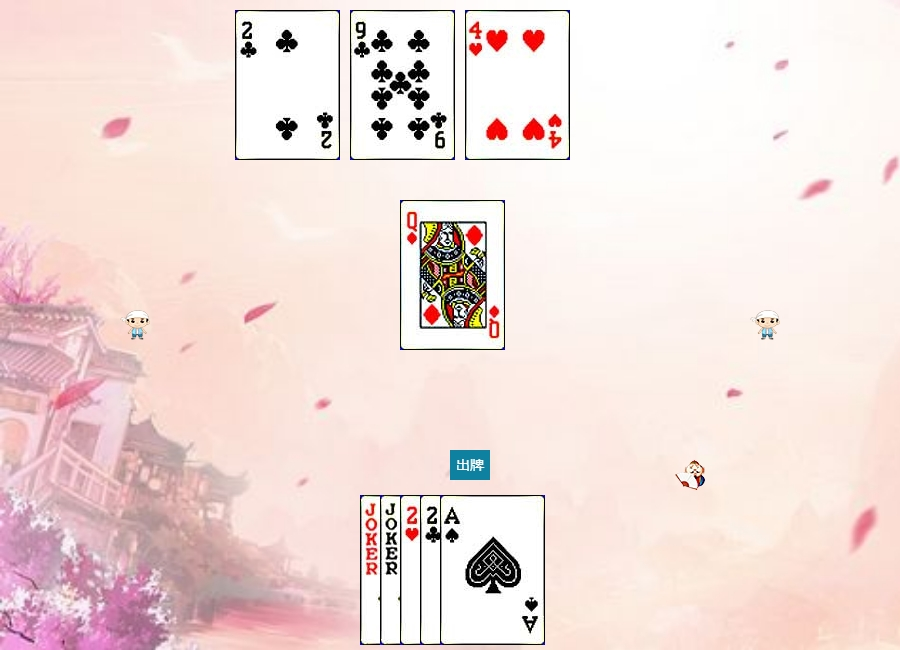12~1: (400, 200, 505, 350)
14~4: (440, 495, 545, 645)
15~2: (235, 10, 340, 160), (420, 495, 525, 645)
15~3: (400, 495, 505, 645)
17~3: (380, 495, 485, 645)
18~4: (360, 495, 465, 645)
4~3: (465, 10, 570, 160)
9~2: (350, 10, 455, 160)
